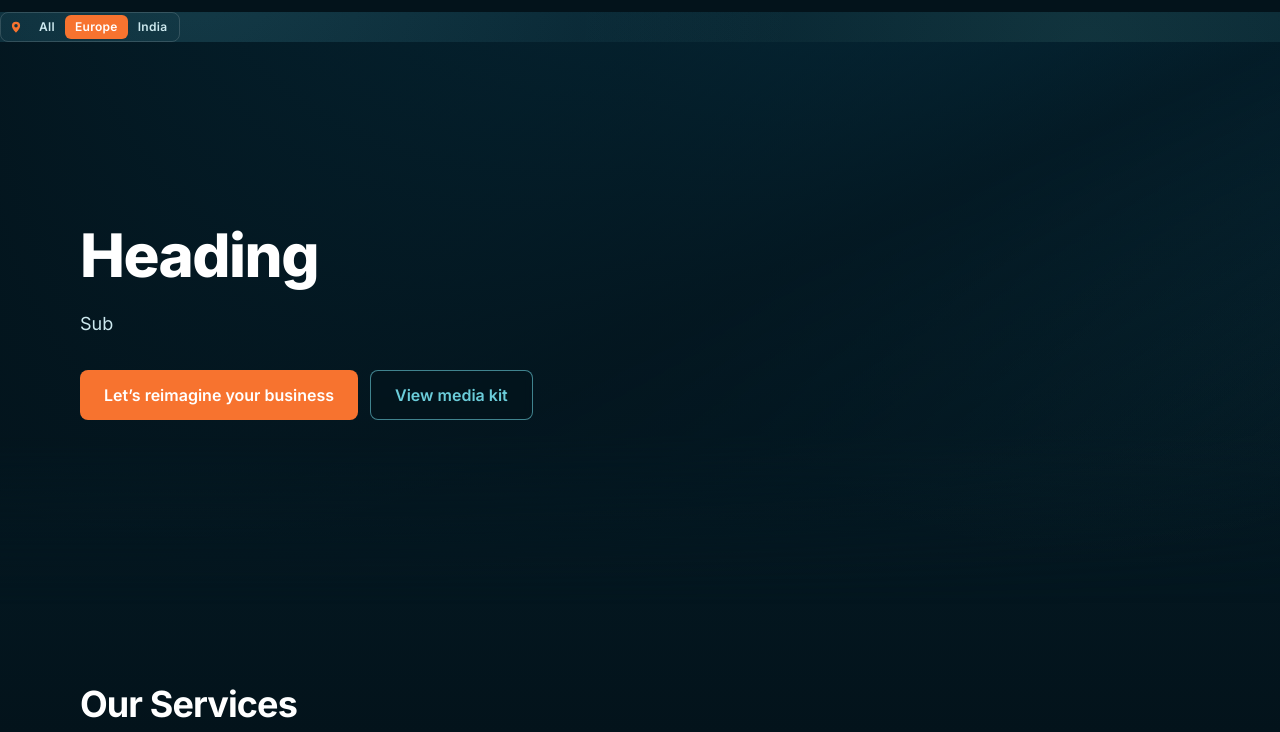
it: HomePage by region › switching to India swaps the work shown
Click the button "India". click: (153, 27)
box: top-left (128, 15), bottom-right (177, 39)
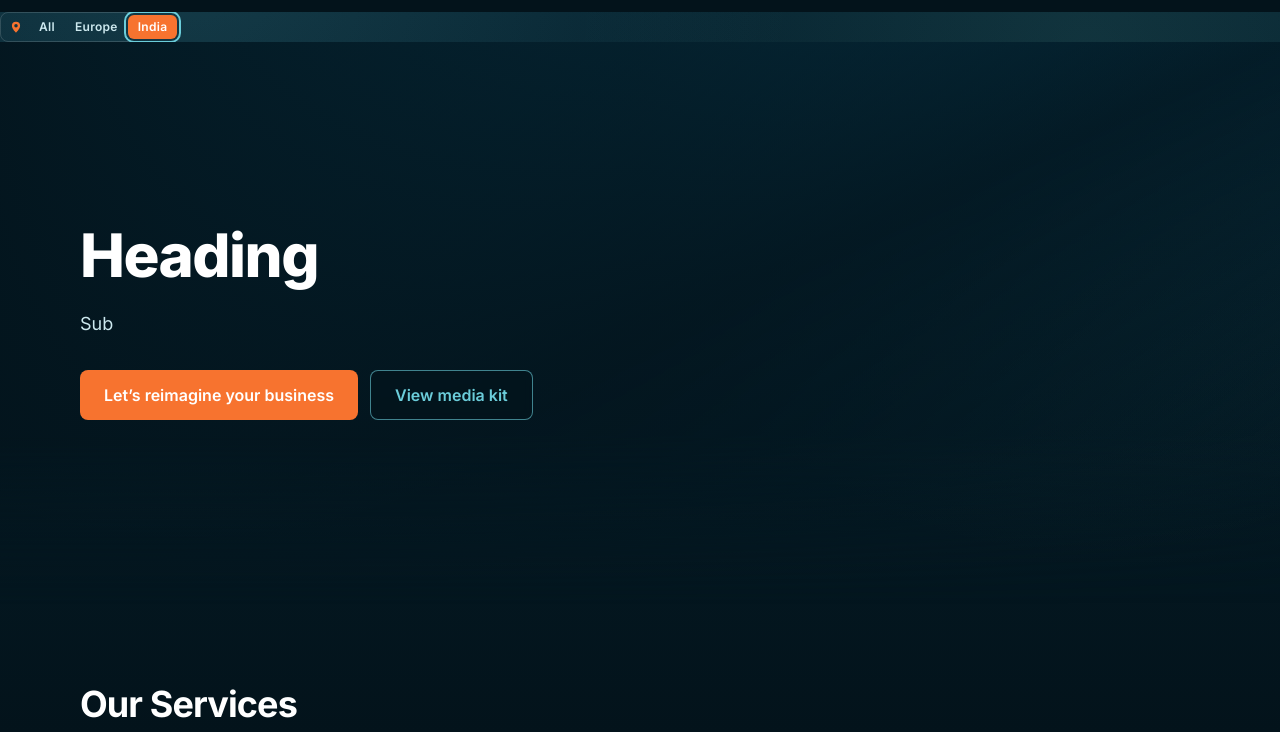
Expected: the button "India" is pressed, top-left (128, 15), bottom-right (177, 39)
